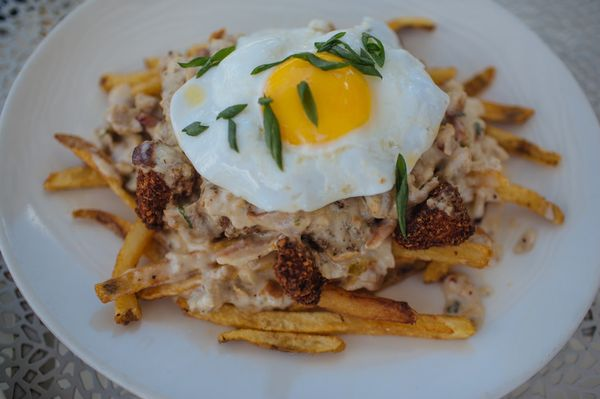soup: (89, 14, 526, 353)
